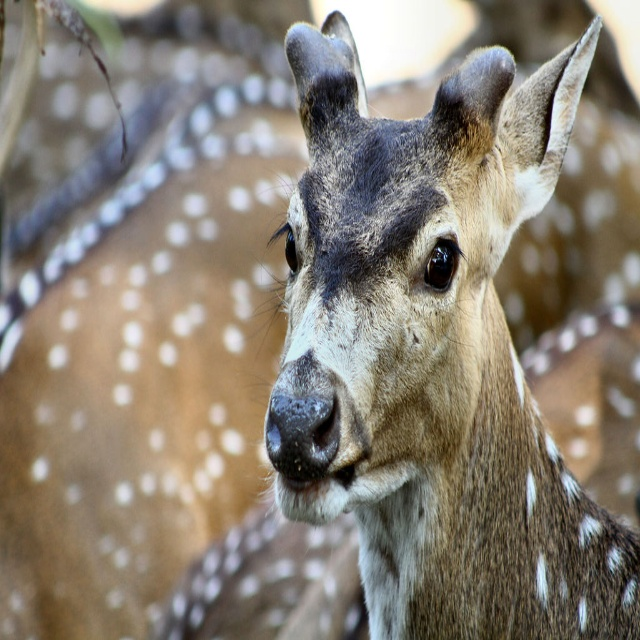Deer: (249, 11, 640, 639)
